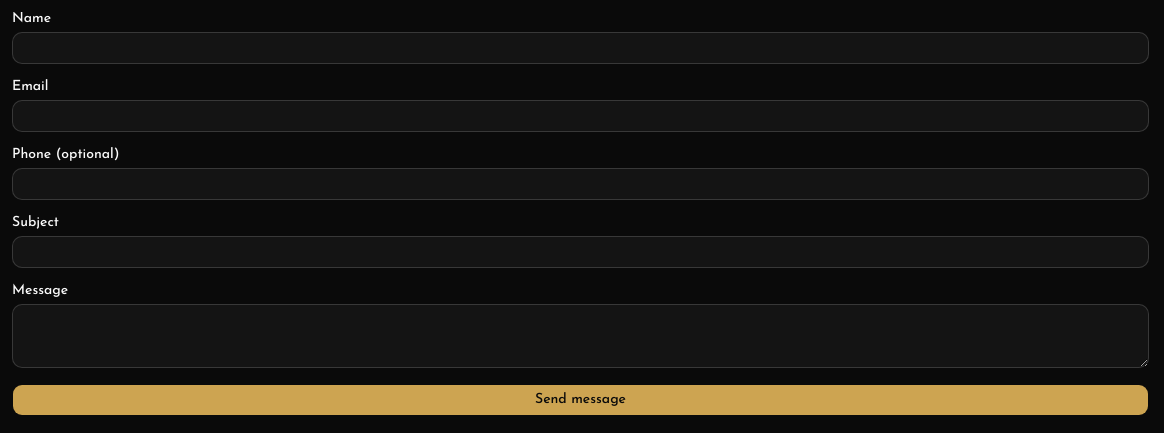
Test: ContactScreen › submits the message and shows a success state
Type "Jamie Alder" into the field labelled "Name" at [580, 48], box left=12, top=32, right=1149, bottom=64
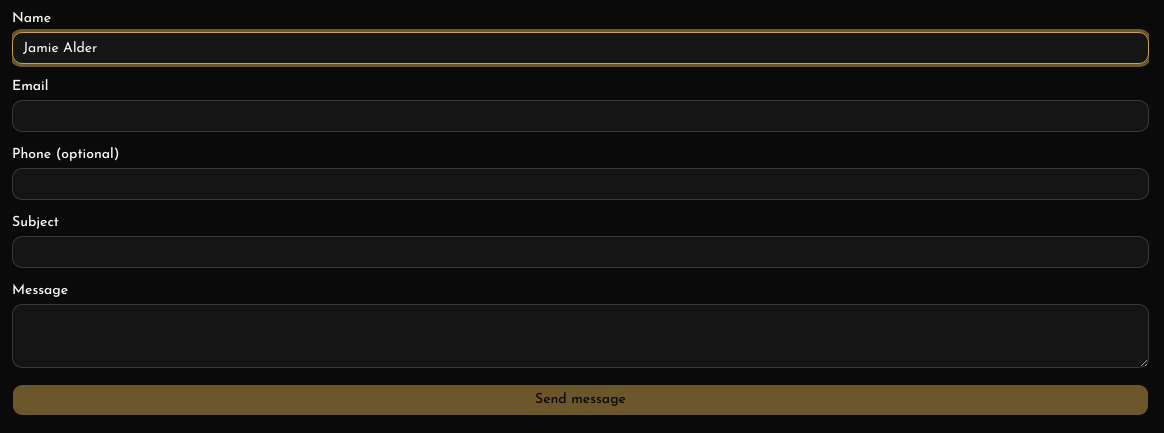
Type "jamie@example.com" into the field labelled "Email" at [580, 116], box left=12, top=100, right=1149, bottom=132
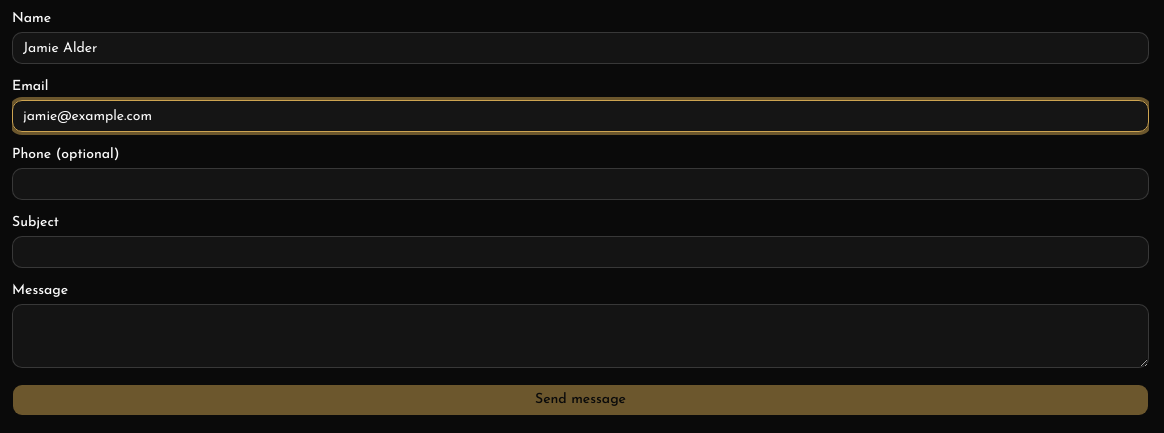
Type "Question about a cabin" into the field labelled "Subject" at [580, 252], box left=12, top=236, right=1149, bottom=268
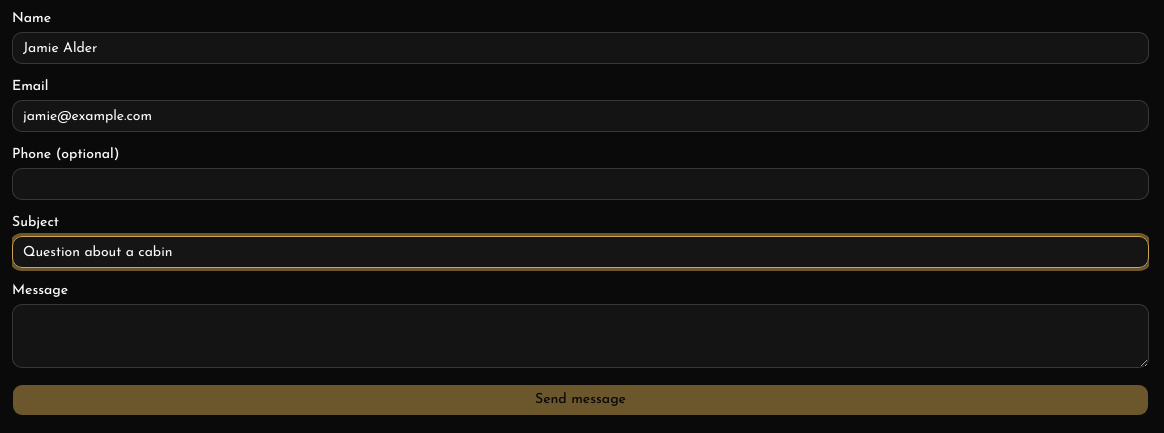
Type "Is Hidden Creek pet-friendly?" into the text box labelled "Message" at [580, 336], box left=12, top=304, right=1149, bottom=368
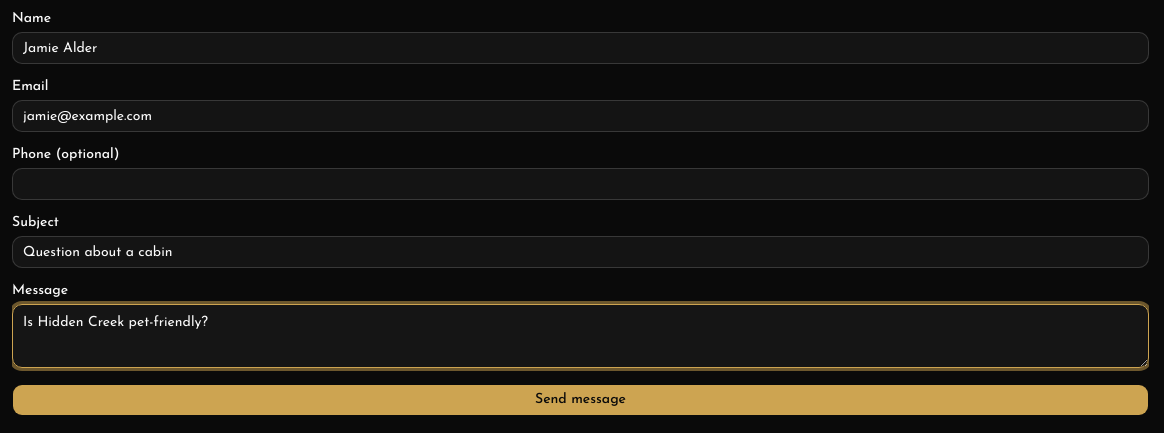
Click the button "Send message" at [580, 400], box left=12, top=384, right=1149, bottom=416
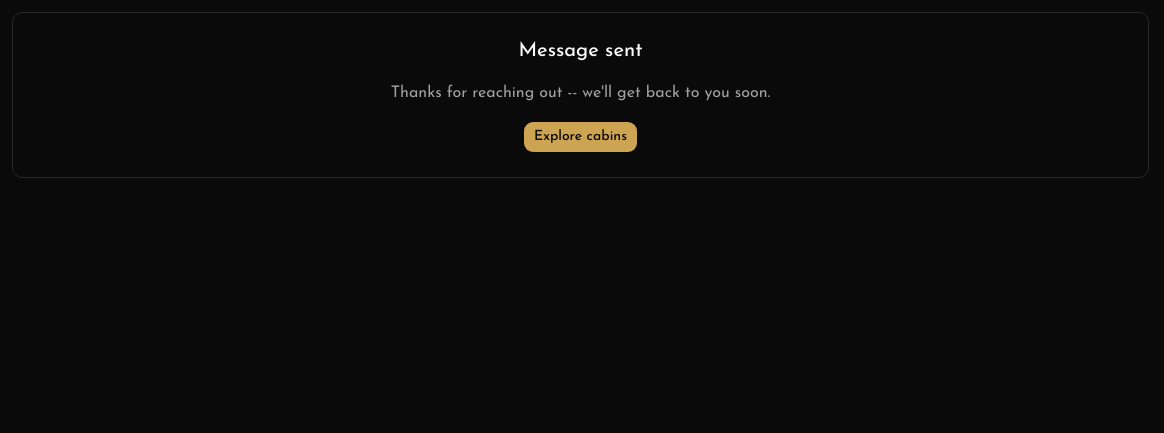
Check: the heading "Message sent" is shown, box left=518, top=41, right=642, bottom=61
